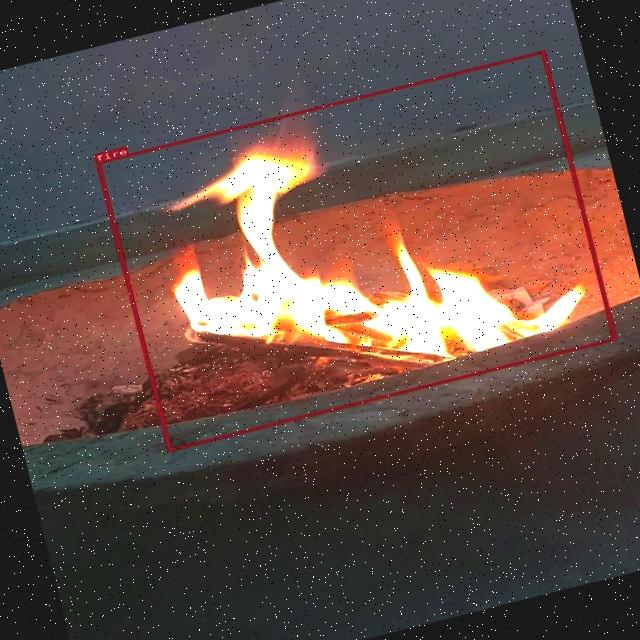fire: (94, 49, 616, 450)
